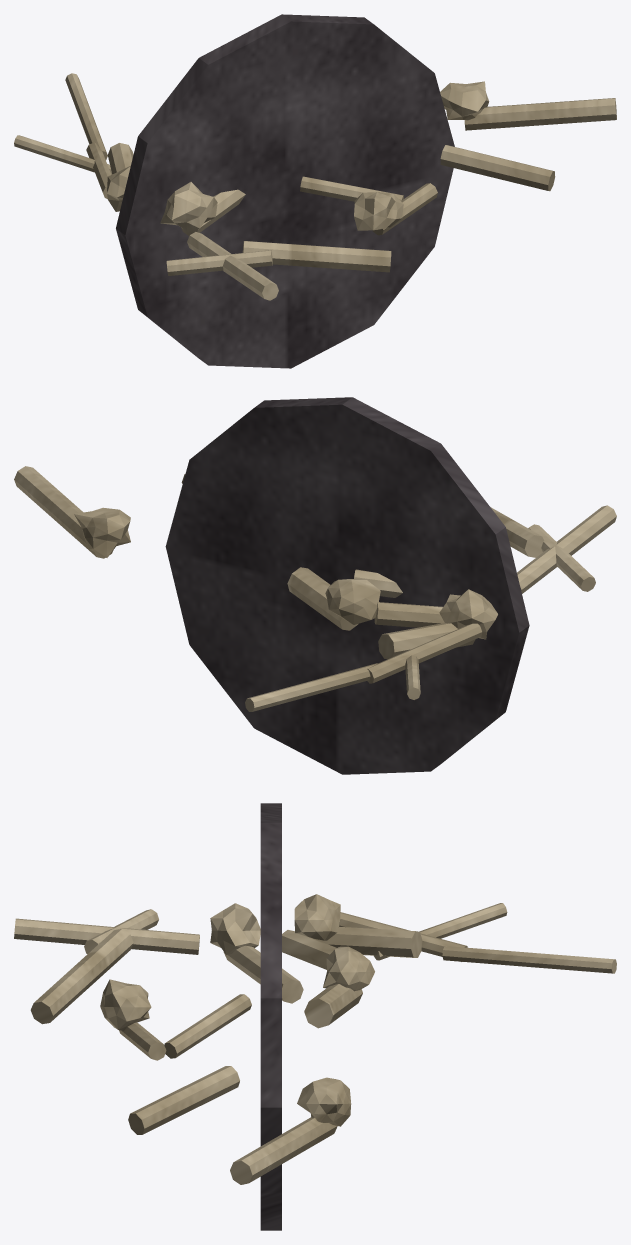
The model's file is 0239_bone_heap_14.glb.
3 renders of one model, top to bottom at view 1: azimuth 30°, elevation 25°; view 2: azimuth 150°, elevation 25°; view 3: azimuth 270°, elevation 25°, orthographic. The views are drawn at different scales.
Parts seen in each view (by area): view 1: ash, bone; view 2: ash, bone; view 3: bone, ash.
Part boxes in pixels (<box>): ash: <box>116,14,454,368</box>; bone: <box>14,73,616,300</box>; ash: <box>165,397,529,774</box>; bone: <box>14,466,616,711</box>; bone: <box>14,894,616,1184</box>; ash: <box>260,803,281,1230</box>.
Bounding box in the file's own units: 2.4 × 1.6 × 2.25.
Materials: 2 (2 with a texture image).
